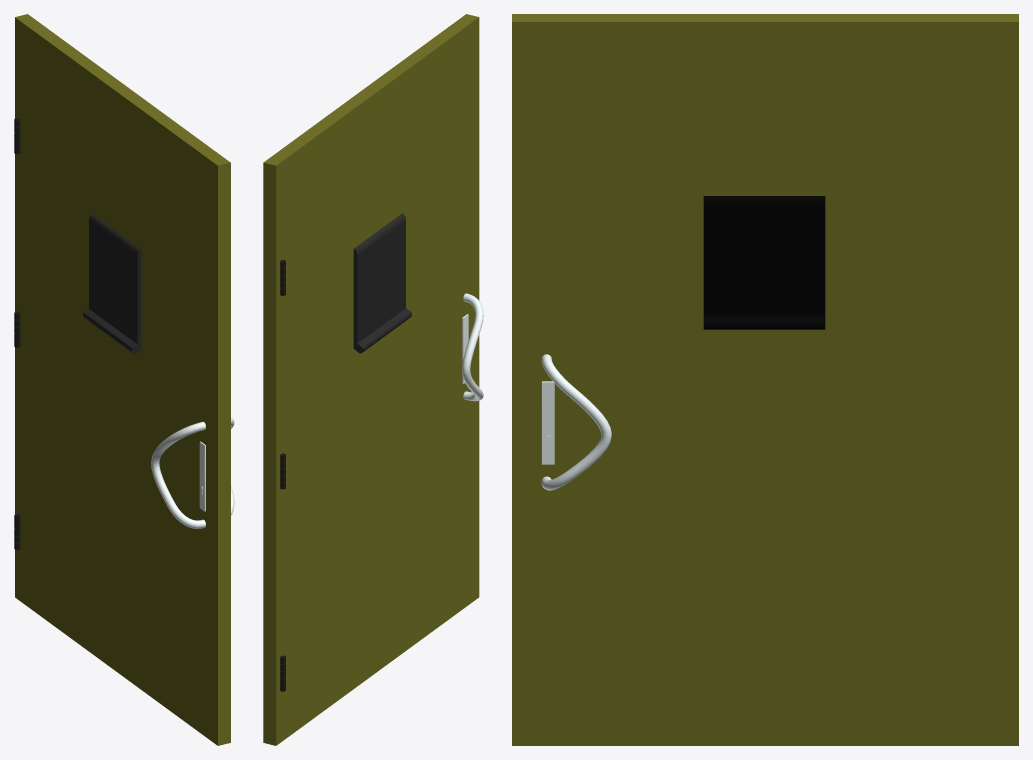
File: FMRI_door.FBX
3 views of the same model, side by side, from view 1: azimuth 30°, elevation 25°; view 2: azimuth 150°, elevation 25°; view 3: azimuth 270°, elevation 25° (orthographic). The views are drawn at different scales.
Parts seen in each view (by area): view 1: FMRIdoor, FMRIframe, FMRIhandle; view 2: FMRIdoor, FMRIframe, FMRIhandle; view 3: FMRIdoor, FMRIframe, FMRIhandle.
Boxes of the visible parts, left/top/right/bottom form: FMRIdoor: left=14, top=32, right=211, bottom=741; FMRIframe: left=15, top=14, right=230, bottom=745; FMRIhandle: left=151, top=418, right=234, bottom=528; FMRIdoor: left=280, top=32, right=473, bottom=740; FMRIframe: left=263, top=14, right=479, bottom=745; FMRIhandle: left=462, top=293, right=483, bottom=401; FMRIdoor: left=527, top=35, right=1003, bottom=745; FMRIframe: left=512, top=14, right=1018, bottom=745; FMRIhandle: left=541, top=354, right=611, bottom=490.
Size of the model in its own units: 0.249 by 1.27 by 2.
